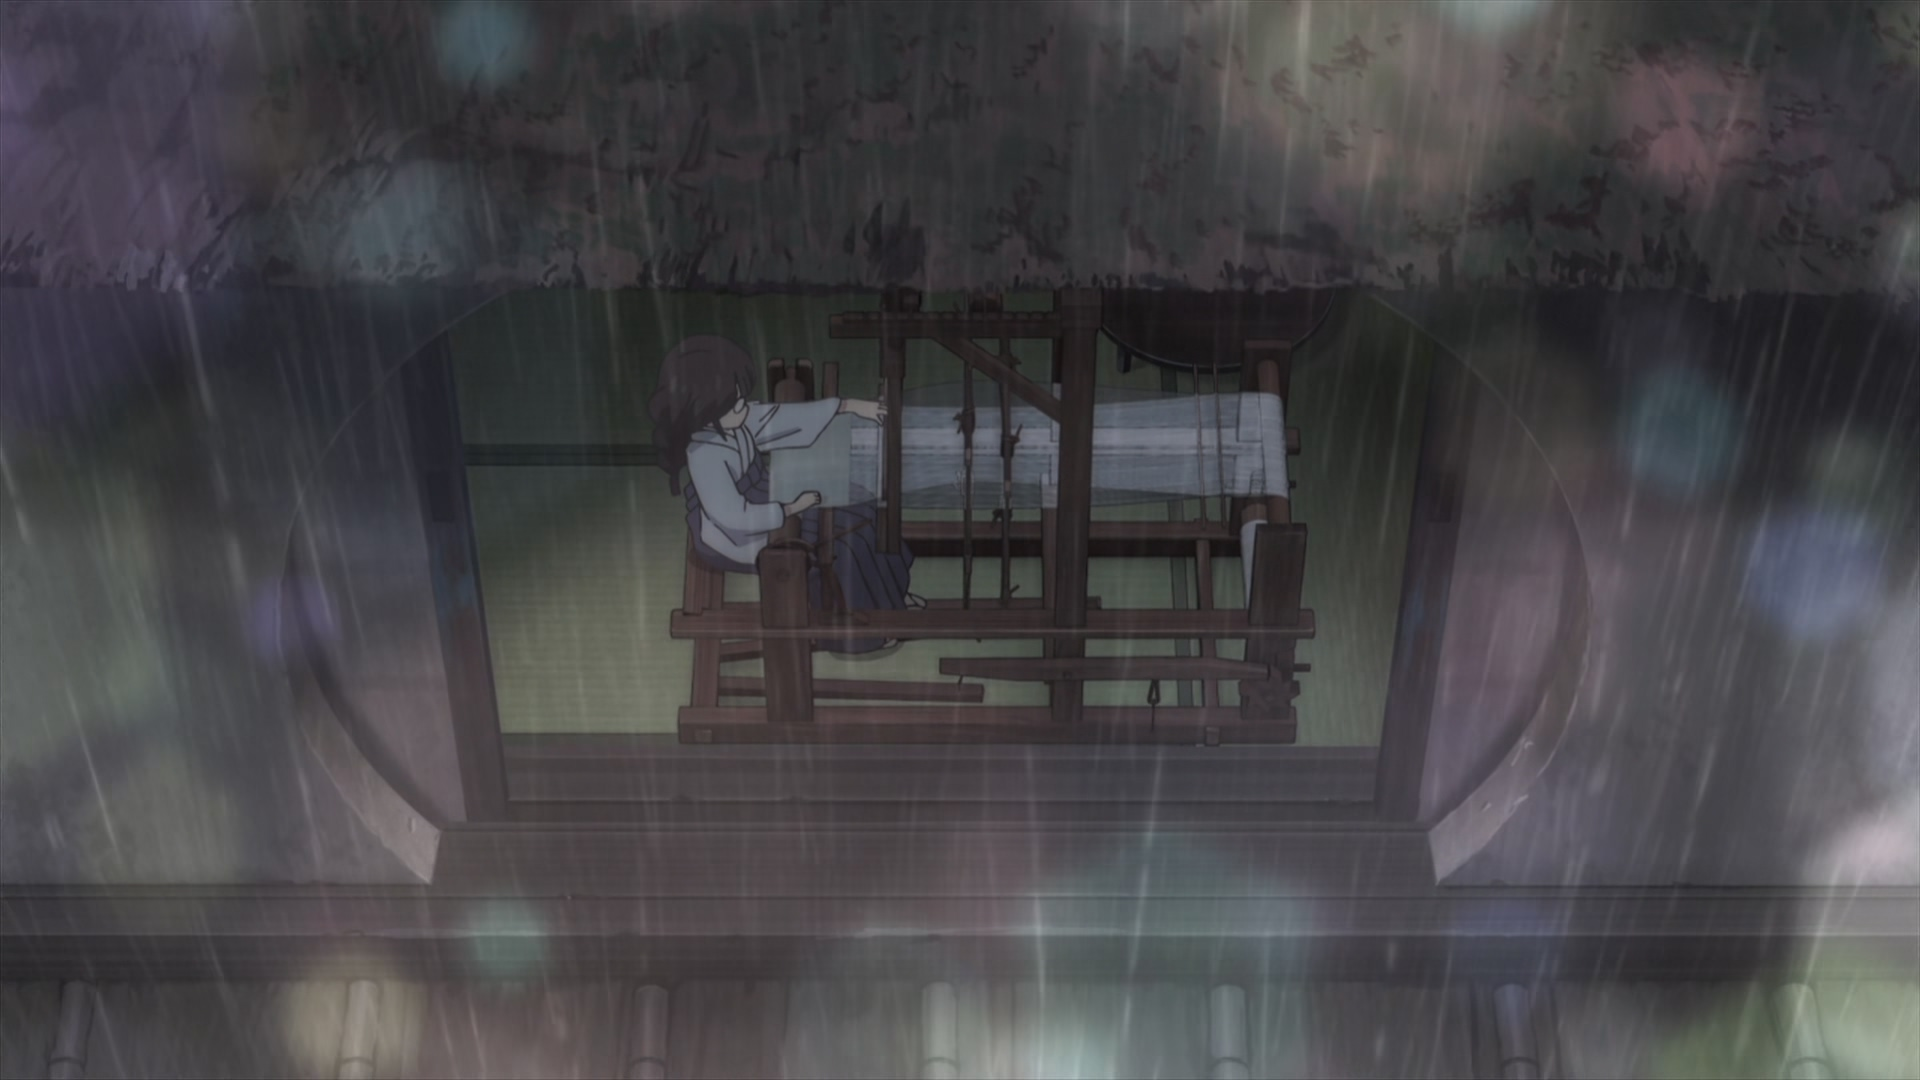其他: (653, 332, 924, 663)
